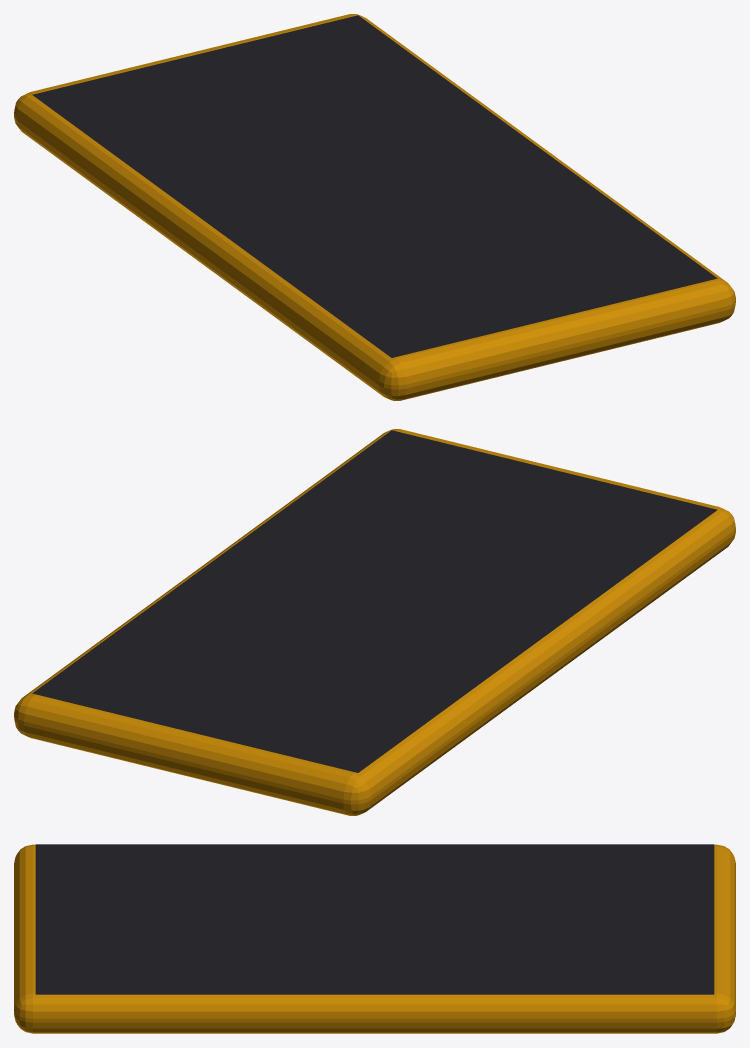
Rendered from tecno-spark-model-446-mid-range-2025.glb.
3 views of the same model, one above another, from view 1: azimuth 30°, elevation 25°; view 2: azimuth 150°, elevation 25°; view 3: azimuth 270°, elevation 25° (orthographic). The views are drawn at different scales.
Parts seen in each view (by area): view 1: Phone_Screen, Phone_Body; view 2: Phone_Screen, Phone_Body; view 3: Phone_Screen, Phone_Body.
Boxes of the visible parts, x1,y1,x2,y2 form: Phone_Screen: (32, 15, 717, 357); Phone_Body: (14, 14, 735, 400); Phone_Screen: (32, 430, 717, 772); Phone_Body: (14, 429, 735, 815); Phone_Screen: (35, 844, 714, 994); Phone_Body: (14, 844, 735, 1033).
Size of the model in its own units: 0.0766 by 0.0085 by 0.1432.
